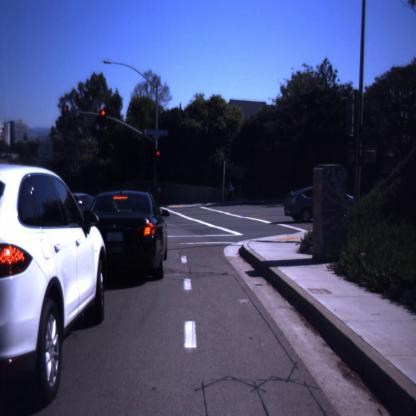trafficlight: (98, 102, 108, 136), (154, 148, 163, 170), (61, 104, 69, 125)
